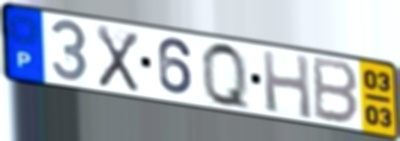3: (48, 17, 91, 87)
6: (156, 35, 195, 100)
B: (311, 54, 361, 127)
H: (259, 47, 315, 122)
Q: (198, 39, 253, 115)
X: (94, 23, 141, 95)
